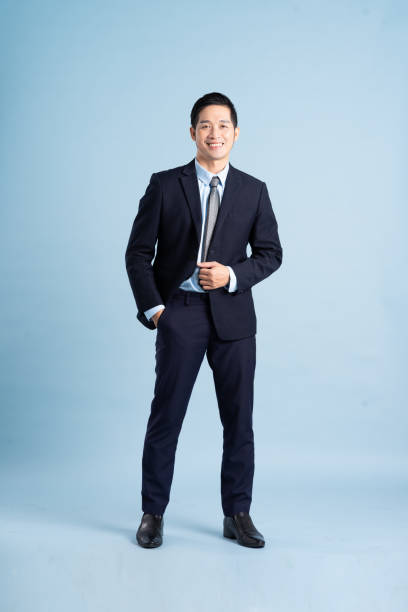Male: (111, 87, 305, 553)
